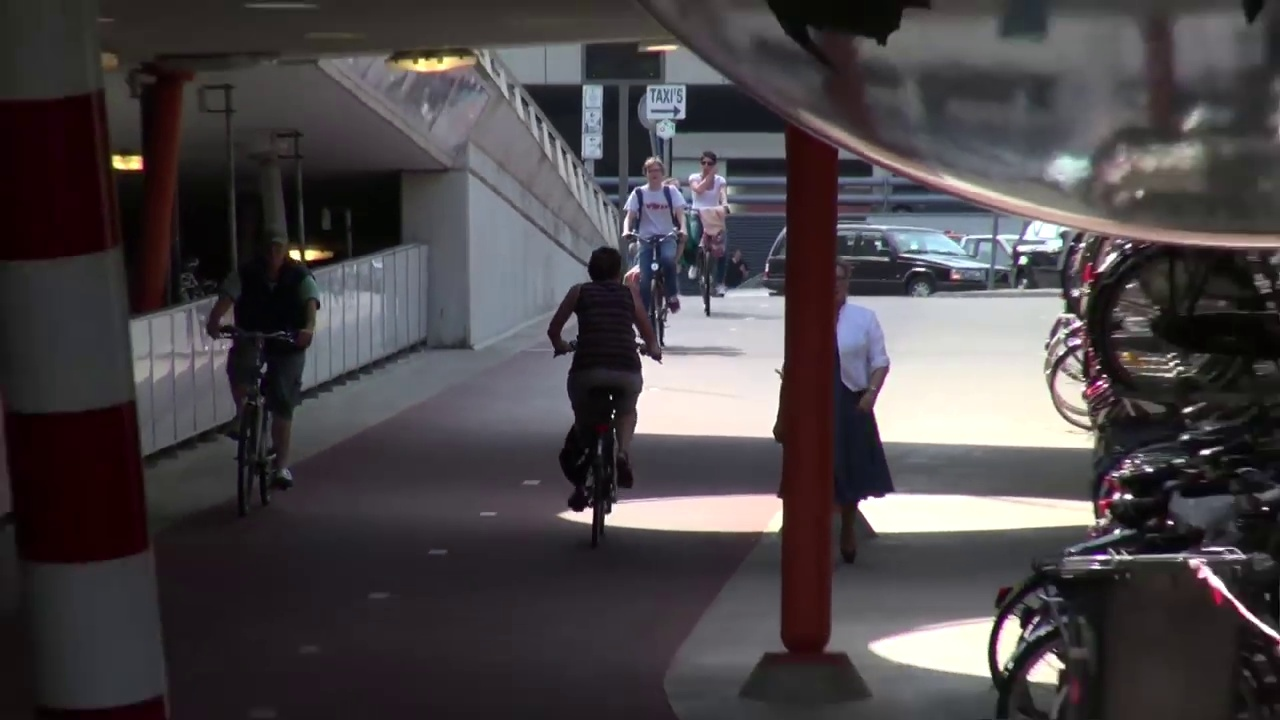cyclist_front: (215, 226, 315, 522), (552, 248, 651, 540), (622, 152, 684, 359), (679, 142, 732, 328)
